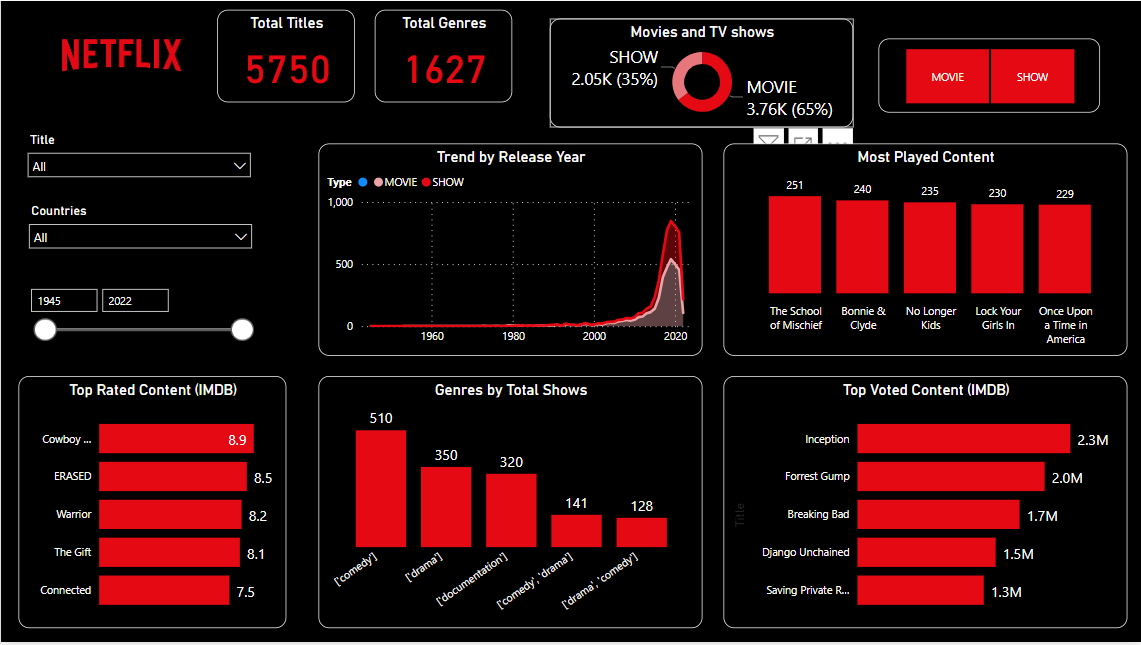

The page's visual inventory and layout, read from the dashboard file:
{"tool":"powerbi","page":{"name":"Page 1","canvas":[1280,720],"ordinal":0},"visuals":[{"type":"card","title":"Total Titles","fields":{"Values":["Count(imdb_movies_shows.Title)"]},"box":[242.9,9.8,154.4,103.9],"z":0},{"type":"donutChart","title":"Movies and TV shows","fields":{"Category":["imdb_movies_shows.Type"],"Y":["CountNonNull(imdb_movies_shows.Title)"]},"box":[616.3,19.7,341.1,122.1],"z":1000},{"type":"stackedAreaChart","title":"Trend by Release Year","fields":{"Category":["imdb_movies_shows.Release_year.Variation.Date Hierarchy.Year"],"Y":["CountNonNull(imdb_movies_shows.Title)"],"Series":["imdb_movies_shows.Type"]},"box":[356.6,160,431,238.6],"z":3000},{"type":"columnChart","title":"Genres by Total Shows","fields":{"Y":["CountNonNull(imdb_movies_shows.Title)"],"Category":["imdb_movies_shows.Genres"]},"box":[356.6,421.1,431,283.6],"z":4000},{"type":"clusteredBarChart","title":"Top Rated Content (IMDB)","fields":{"Category":["imdb_movies_shows.Title"],"Y":["Max(imdb_movies_shows.Imdb_score)"]},"box":[19.7,421.1,300.4,283.6],"z":5000},{"type":"clusteredBarChart","title":"Top Voted Content (IMDB)","fields":{"Category":["imdb_movies_shows.Title"],"Y":["Sum(imdb_movies_shows.Imdb_votes)"]},"box":[811.4,421.1,453.4,283.6],"z":6000},{"type":"columnChart","title":"Most Played Content","fields":{"Category":["imdb_movies_shows.Title"],"Y":["Max(imdb_movies_shows.Runtime)"]},"box":[811.4,160,453.4,238.6],"z":7000},{"type":"slicer","fields":{"Values":["imdb_movies_shows.Type"]},"box":[985.5,42.1,248.5,82.8],"z":8000},{"type":"image","box":[0,0,270.9,122.1],"z":9000},{"type":"card","title":"Total Genres","fields":{"Values":["Count(imdb_movies_shows.Genres)"]},"box":[419.7,9.8,154.4,103.9],"z":10000},{"type":"slicer","fields":{"Values":["imdb_movies_shows.Title"]},"box":[19.7,141.8,270.9,73],"z":10001},{"type":"slicer","fields":{"Values":["imdb_movies_shows.Production_countries"]},"box":[21.1,221.8,270.9,73],"z":10002},{"type":"slicer","fields":{"Values":["imdb_movies_shows.RY"]},"box":[21.1,313.1,270.9,85.6],"z":10003}]}

Visuals, with their boxes in screenshot pixels (x1, y1, x2, y2), scaled from the page's 1280x720 canvas onto the 1141x645 screenshot:
"Total Titles" card: 217/9/354/102
"Movies and TV shows" donutChart: 549/18/853/127
"Trend by Release Year" stackedAreaChart: 318/143/702/357
"Genres by Total Shows" columnChart: 318/377/702/631
"Top Rated Content (IMDB)" clusteredBarChart: 18/377/285/631
"Top Voted Content (IMDB)" clusteredBarChart: 723/377/1127/631
"Most Played Content" columnChart: 723/143/1127/357
slicer - imdb_movies_shows.Type: 878/38/1100/112
image: 0/0/241/109
"Total Genres" card: 374/9/512/102
slicer - imdb_movies_shows.Title: 18/127/259/192
slicer - imdb_movies_shows.Production_countries: 19/199/260/264
slicer - imdb_movies_shows.RY: 19/280/260/357
